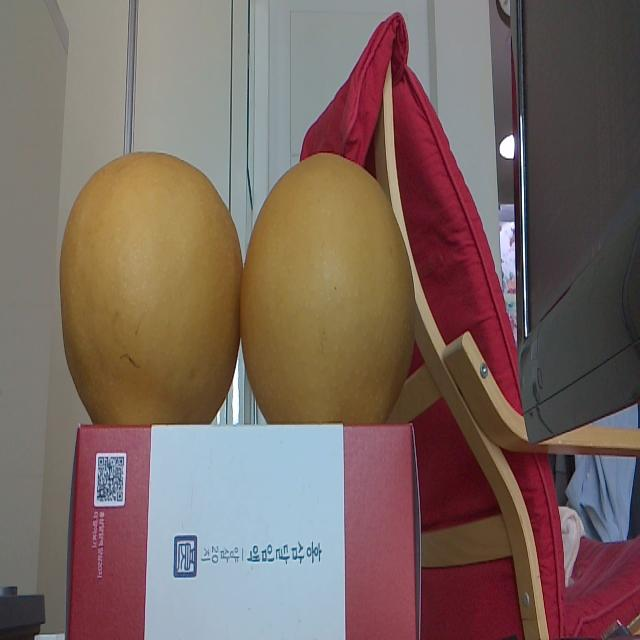pear: (59, 150, 241, 424), (240, 152, 416, 424)
